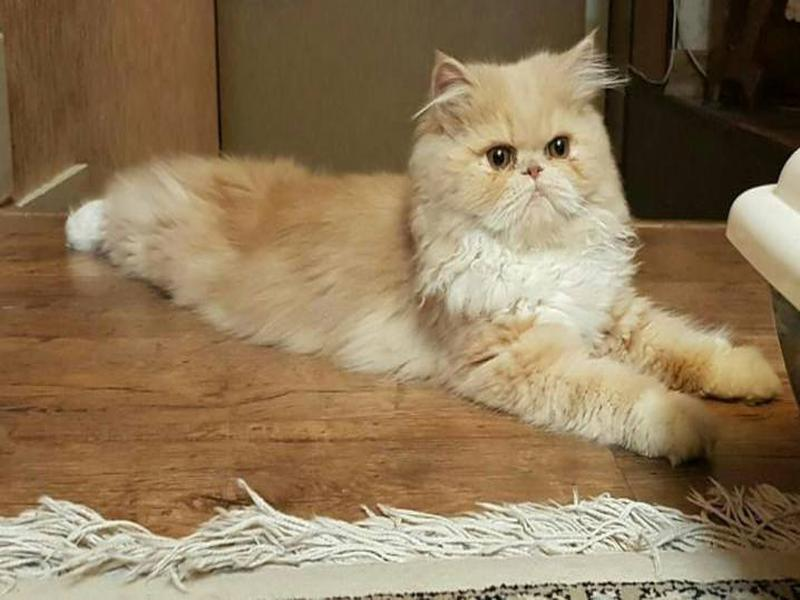cat: (61, 31, 782, 468)
